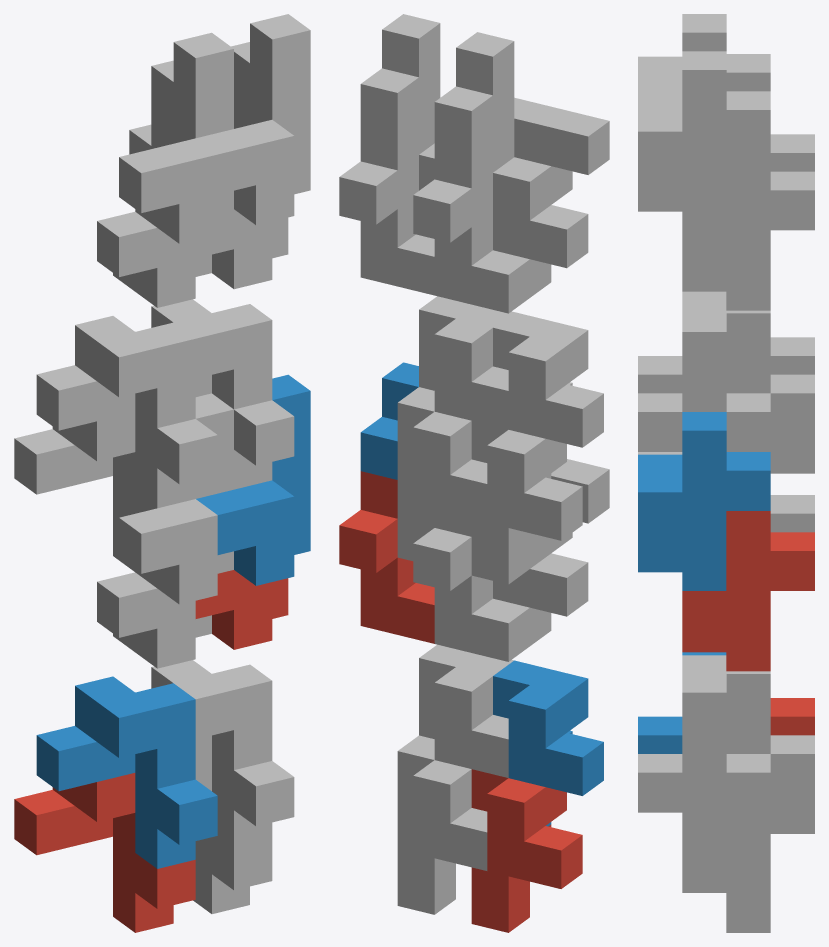
The model's file is tiling.obj.
3 views of the same model, side by side, from view 1: azimuth 30°, elevation 25°; view 2: azimuth 150°, elevation 25°; view 3: azimuth 270°, elevation 25° (orthographic). The views are drawn at different scales.
Visible parts, largest first — view 1: copy_1_domain_4, copy_1_domain_2, copy_2_domain_4, copy_2_domain_8, copy_1_domain_6, copy_1_domain_8, copy_1_domain_1, copy_2_domain_6, copy_2_domain_2, copy_1_domain_3, copy_2_domain_3, copy_2_domain_1 (+3 smaller); view 2: copy_2_domain_3, copy_2_domain_4, copy_2_domain_1, copy_1_domain_1, copy_1_domain_3, copy_1_domain_5, copy_2_domain_7, copy_1_domain_4, copy_1_domain_2, copy_1_domain_7, copy_2_domain_5, copy_1_domain_8 (+4 smaller); view 3: copy_2_domain_8, copy_2_domain_6, copy_1_domain_6, copy_1_domain_5, copy_2_domain_7, copy_2_domain_5, copy_1_domain_8, copy_1_domain_7, copy_2_domain_4, copy_1_domain_2, copy_1_domain_4, copy_1_domain_3 (+3 smaller).
Boxes of the visible parts, x1,y1,x2,y2 form: copy_1_domain_4: [36, 316, 217, 508]; copy_1_domain_2: [36, 676, 217, 868]; copy_2_domain_4: [119, 32, 233, 243]; copy_2_domain_8: [196, 14, 310, 225]; copy_1_domain_6: [151, 660, 294, 850]; copy_1_domain_8: [151, 299, 294, 489]; copy_1_domain_1: [14, 773, 195, 932]; copy_2_domain_6: [196, 374, 310, 585]; copy_2_domain_2: [119, 393, 233, 604]; copy_1_domain_3: [14, 412, 156, 571]; copy_2_domain_3: [97, 106, 211, 307]; copy_2_domain_1: [97, 572, 211, 668]; copy_2_domain_3: [413, 134, 588, 313]; copy_2_domain_4: [434, 32, 609, 220]; copy_2_domain_1: [413, 510, 588, 661]; copy_1_domain_1: [471, 769, 582, 932]; copy_1_domain_3: [471, 421, 582, 584]; copy_1_domain_5: [397, 735, 487, 914]; copy_2_domain_7: [339, 116, 434, 295]; copy_1_domain_4: [493, 312, 603, 477]; copy_1_domain_2: [493, 660, 603, 826]; copy_1_domain_7: [397, 387, 487, 560]; copy_2_domain_5: [339, 471, 434, 643]; copy_1_domain_8: [419, 296, 513, 429]; copy_2_domain_8: [638, 51, 770, 230]; copy_2_domain_6: [638, 412, 770, 590]; copy_1_domain_6: [638, 655, 770, 852]; copy_1_domain_5: [682, 735, 814, 932]; copy_2_domain_7: [682, 150, 814, 310]; copy_2_domain_5: [682, 511, 814, 671]; copy_1_domain_8: [638, 294, 770, 451]; copy_1_domain_7: [726, 374, 814, 473]; copy_2_domain_4: [638, 14, 770, 93]; copy_1_domain_2: [638, 652, 726, 753]; copy_1_domain_4: [638, 291, 726, 393]; copy_1_domain_3: [770, 337, 814, 374].
Size of the model in its own units: 6 by 22 by 4.
